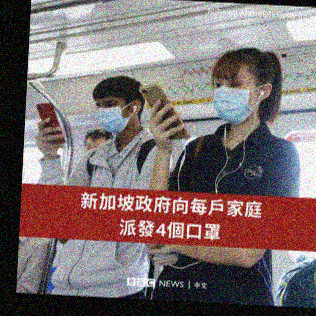with_mask: (212, 72, 259, 126), (95, 98, 128, 133)
